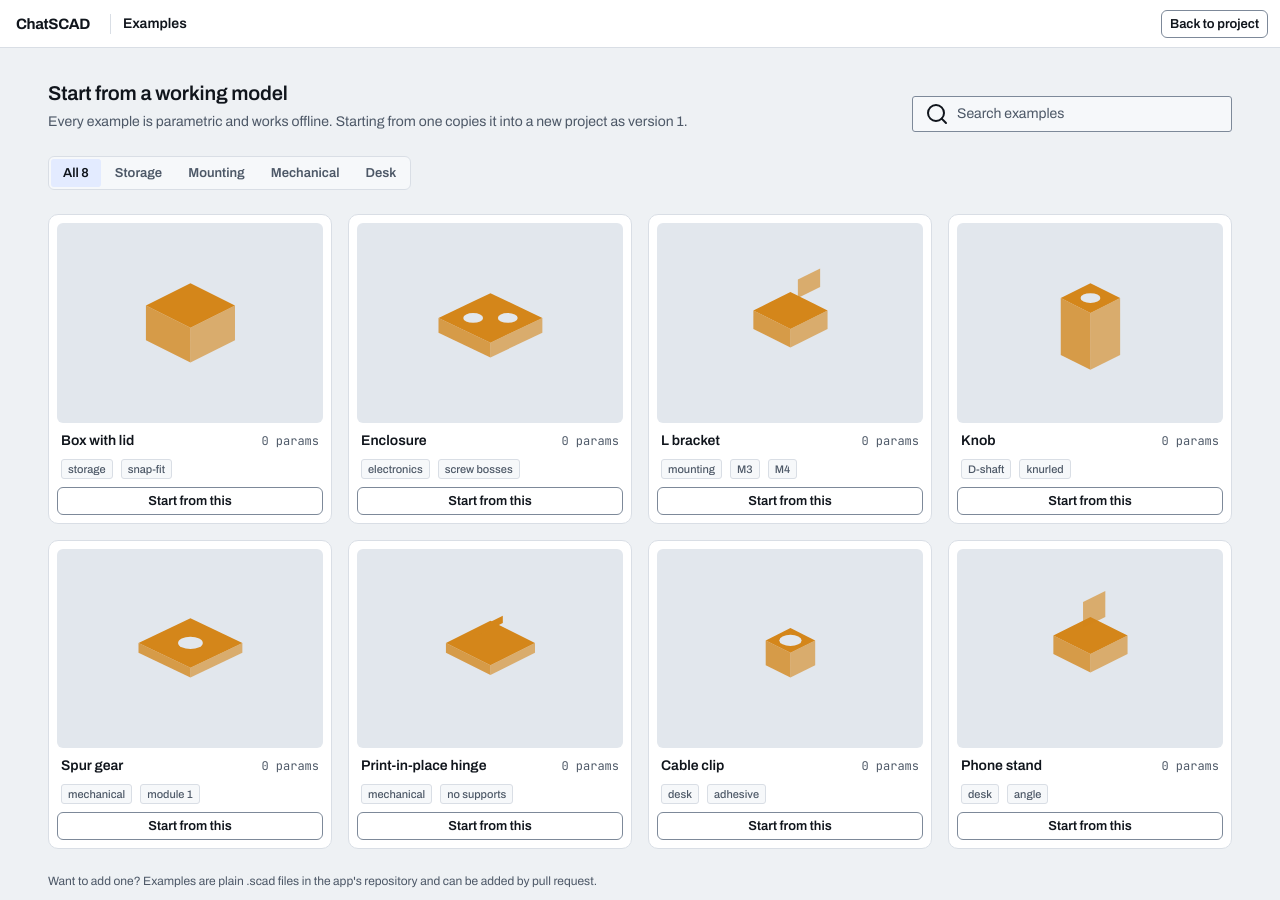
filters by category and by search over names and tags
The width and height of the screenshot is (1280, 900).
Click the tab "Desk".
click(381, 173)  # box [353,159,408,187]
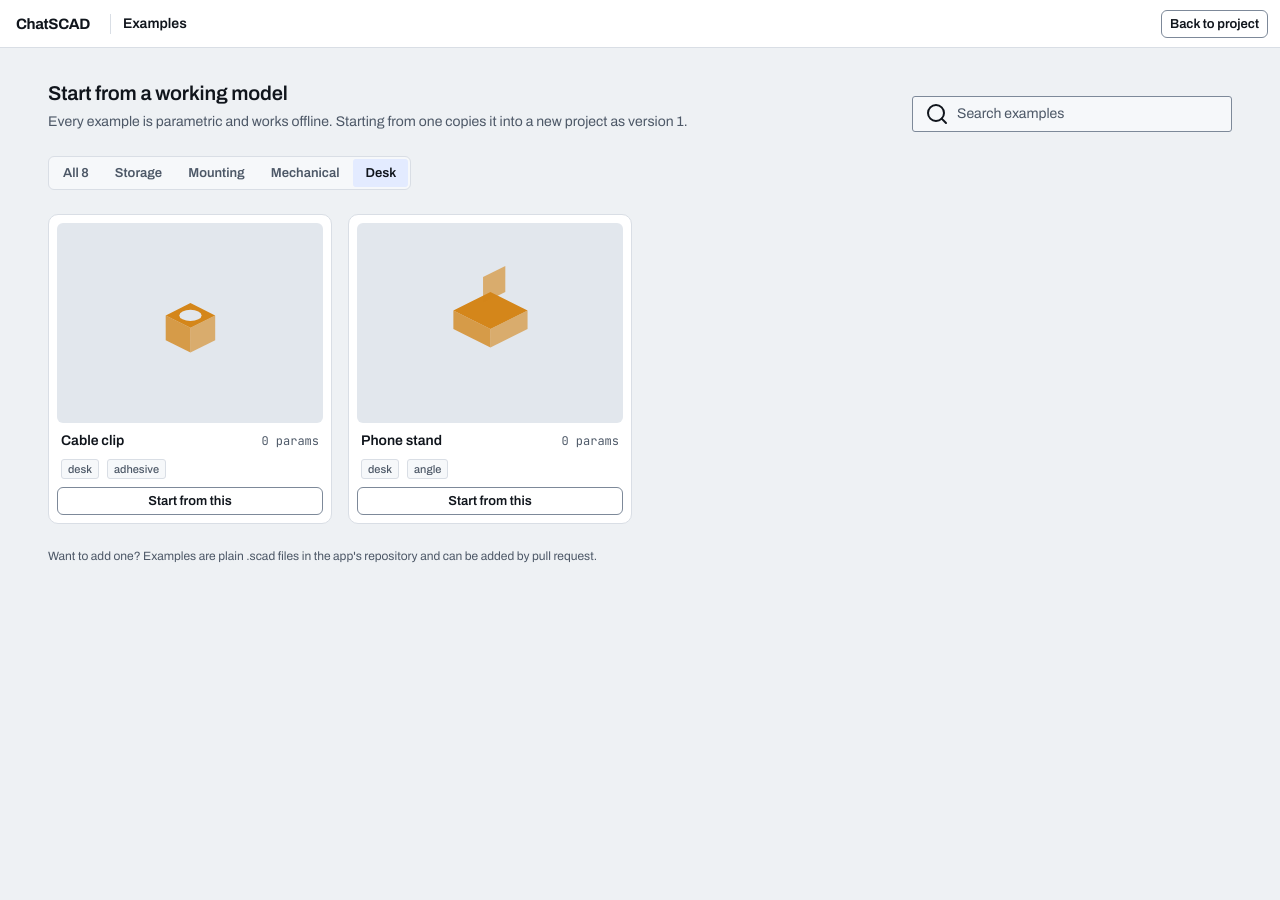
Click the tab "All 8".
click(76, 173)  # box [51,159,101,187]
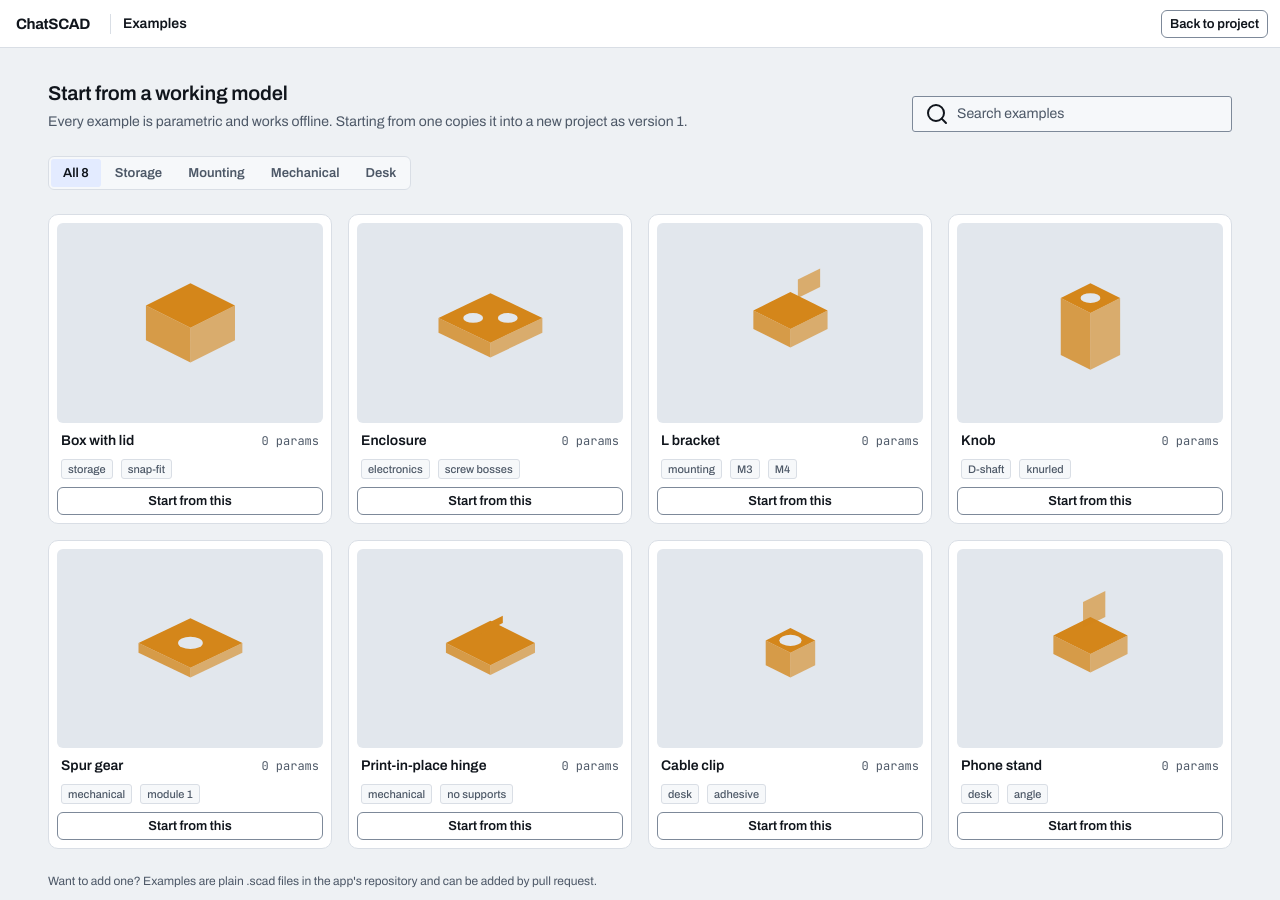
Type "no supports" into the field labelled "Search examples".
click(1088, 114); type("no supports")  # box [957,104,1219,124]
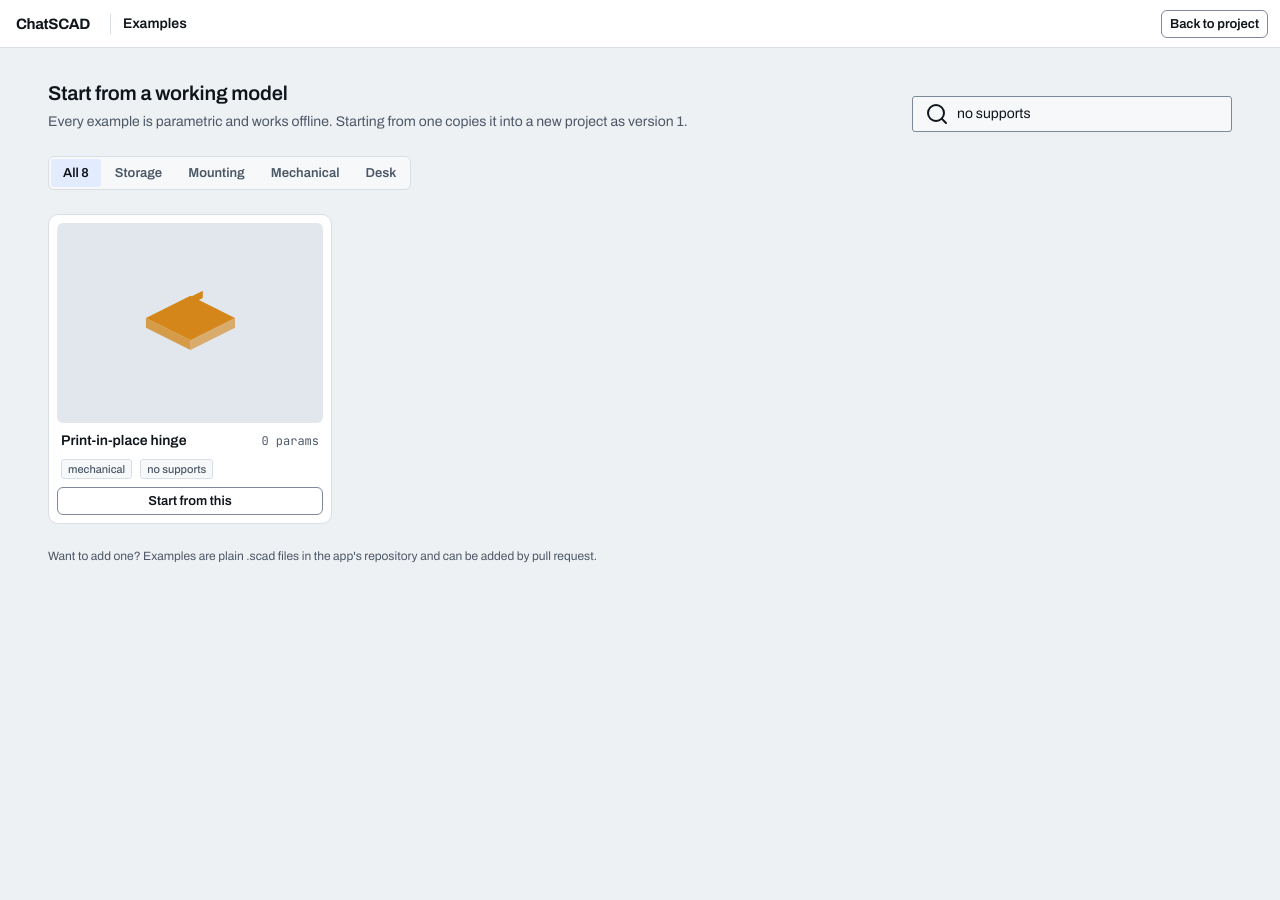
Replace the text in the field named "Search examples" with "zzz" at (1088, 114), box [957,104,1219,124]
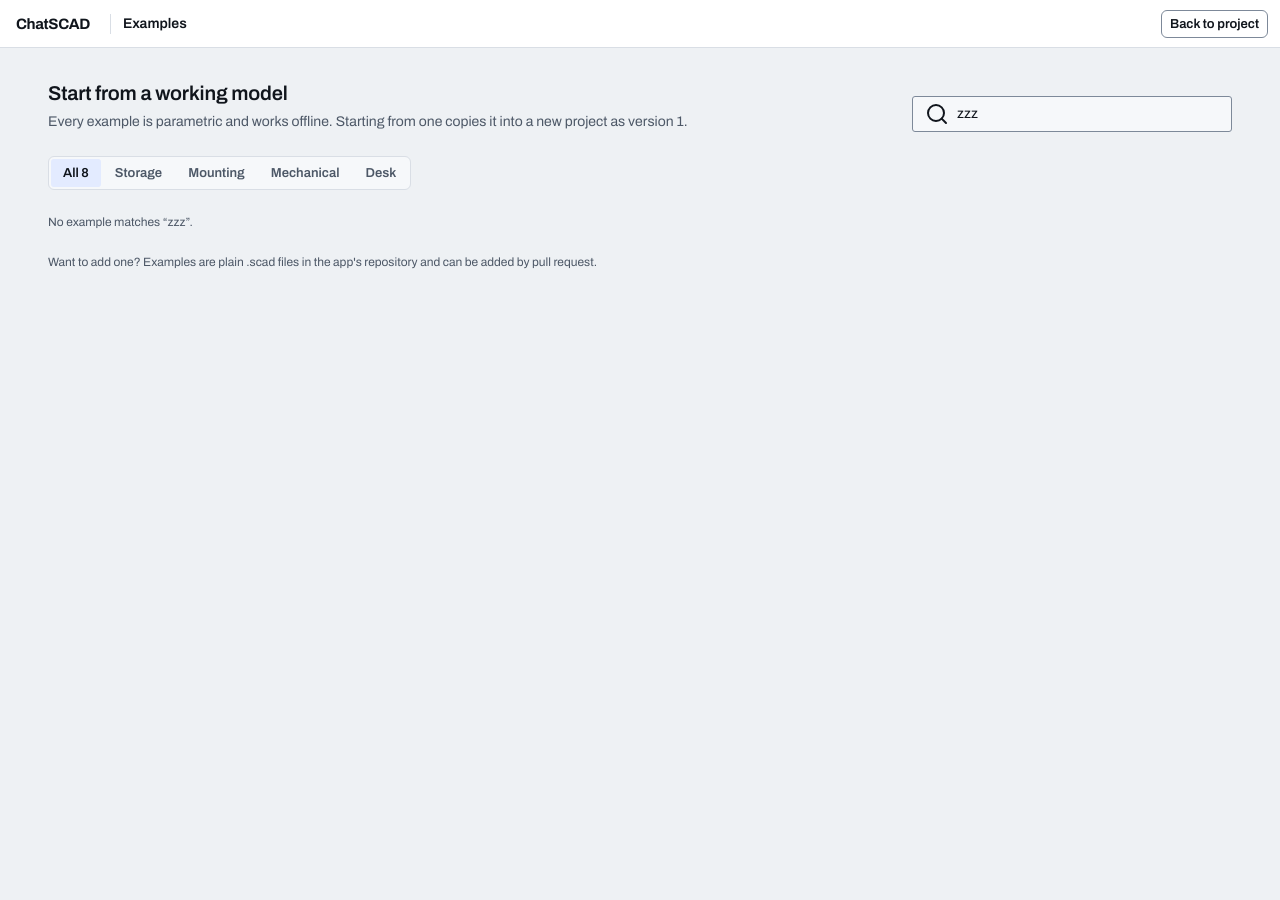
Expected: the text "No example matches “zzz”." is shown, [48,215,193,229]
